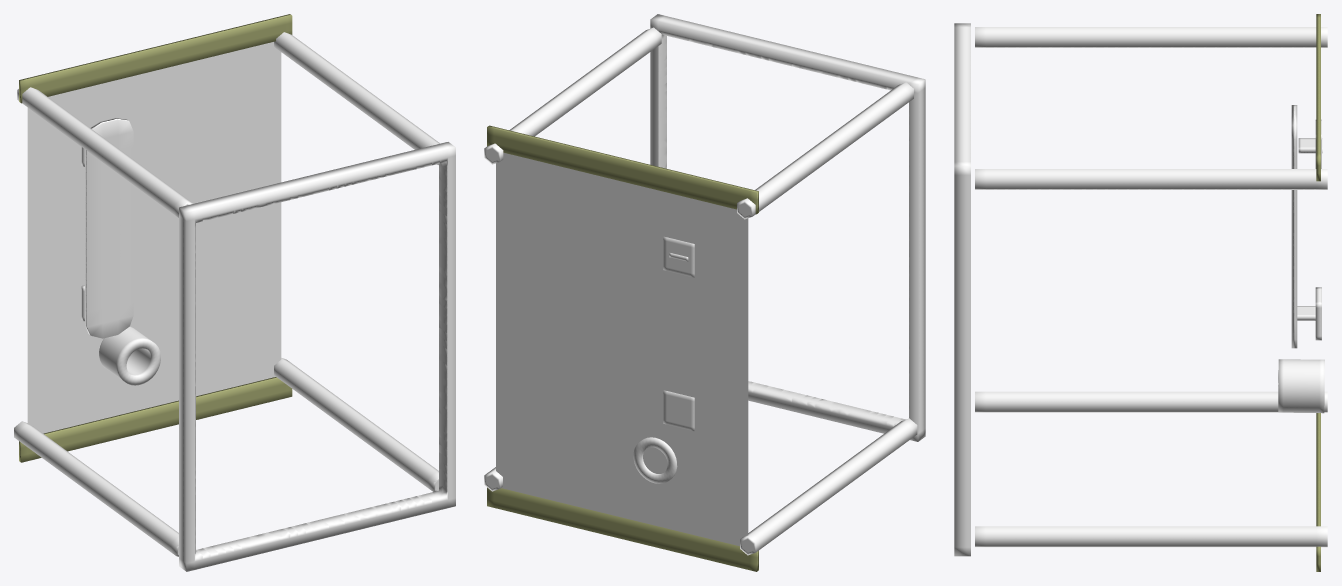
3 views of the same model, side by side, from view 1: azimuth 30°, elevation 25°; view 2: azimuth 150°, elevation 25°; view 3: azimuth 270°, elevation 25° (orthographic). The views are drawn at different scales.
Parts seen in each view (by area): view 1: Plane, Mesh, Box (×2), Cylinder (×2), Box 4, Cylinder 1, Cylinder 3, Cylinder 2; view 2: Plane, Mesh, Box, Box 4, Cylinder (×2), Cylinder 3, Cylinder 2, Box 3, Box 2; view 3: Cylinder (×2), Mesh, Cylinder 1, Cylinder 2, Cylinder 3, Box (×2), Box 4.
Boxes of the visible parts, bbox=[...] form: Plane: bbox=[27, 42, 281, 433]; Mesh: bbox=[179, 142, 455, 571]; Box (×2): bbox=[19, 14, 292, 338]; Cylinder (×2): bbox=[14, 326, 178, 556]; Box 4: bbox=[19, 377, 292, 462]; Cylinder 1: bbox=[274, 358, 438, 491]; Cylinder 3: bbox=[17, 87, 193, 217]; Cylinder 2: bbox=[274, 32, 439, 165]; Plane: bbox=[496, 152, 748, 546]; Mesh: bbox=[650, 14, 925, 441]; Box: bbox=[487, 125, 758, 214]; Box 4: bbox=[487, 487, 758, 571]; Cylinder (×2): bbox=[633, 418, 917, 555]; Cylinder 3: bbox=[737, 82, 913, 219]; Cylinder 2: bbox=[484, 27, 661, 164]; Box 3: bbox=[663, 390, 694, 430]; Box 2: bbox=[663, 236, 694, 277]; Cylinder (×2): bbox=[975, 359, 1327, 413]; Mesh: bbox=[954, 23, 970, 556]; Cylinder 1: bbox=[975, 526, 1327, 547]; Cylinder 2: bbox=[975, 169, 1327, 189]; Cylinder 3: bbox=[975, 27, 1327, 47]; Box (×2): bbox=[1291, 14, 1320, 348]; Box 4: bbox=[1316, 413, 1320, 571].
Size of the model in its own units: 6.41 by 8.55 by 6.98.
